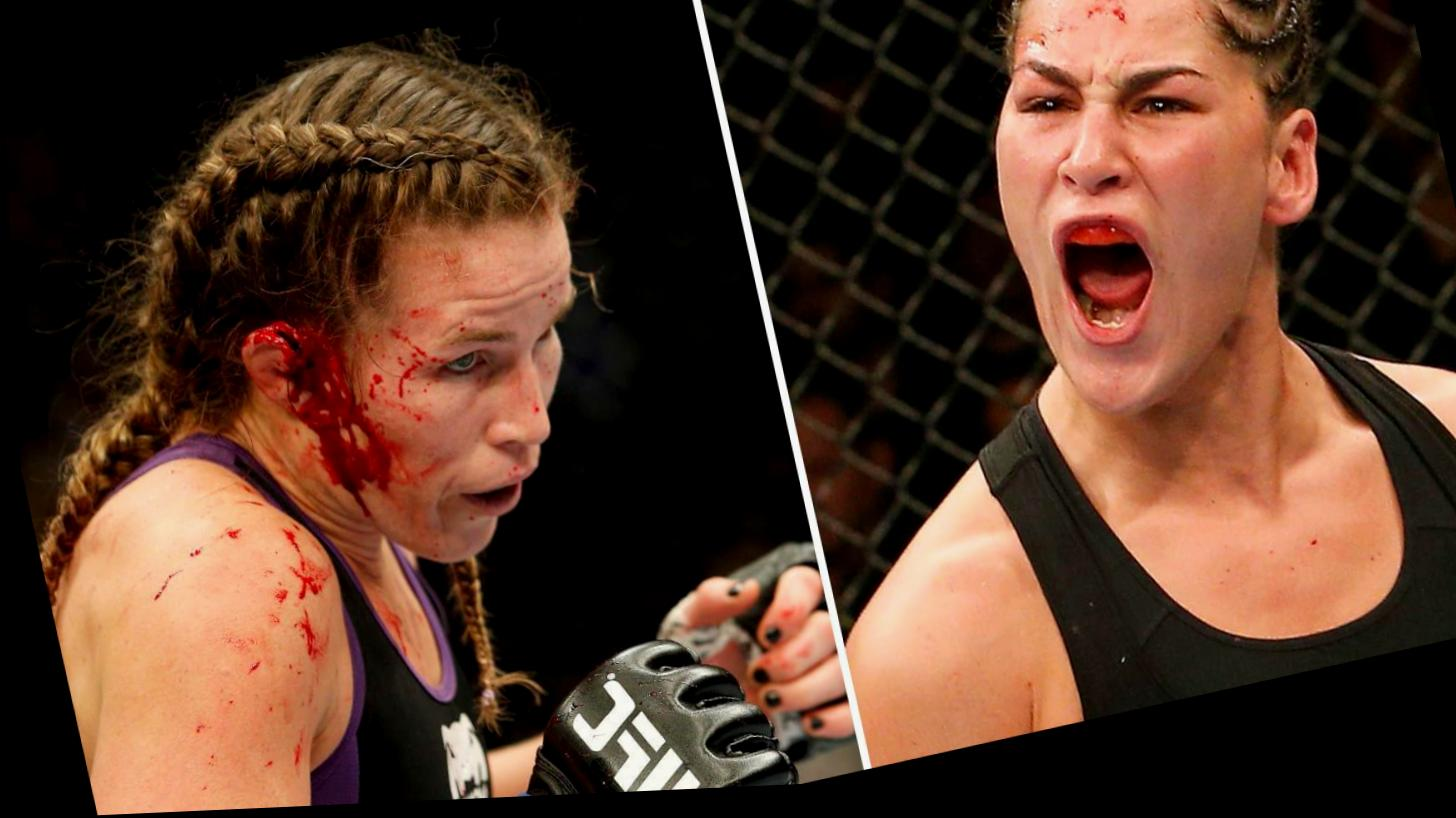Fire: (222, 214, 569, 695), (46, 460, 344, 816), (726, 578, 844, 744), (1015, 0, 1137, 65)
